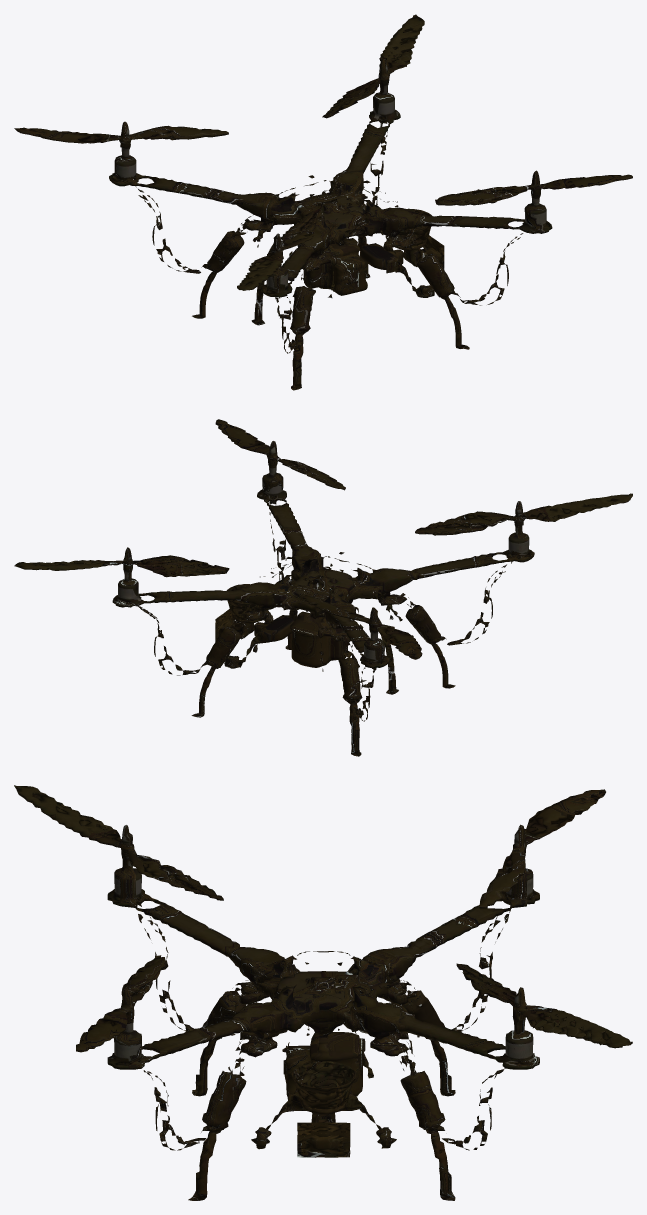
Rendered from drone_optimized.glb.
3 views of the same model, one above another, from view 1: azimuth 30°, elevation 25°; view 2: azimuth 150°, elevation 25°; view 3: azimuth 270°, elevation 25° (orthographic). The views are drawn at different scales.
Visible parts, largest first — view 1: drone; view 2: drone; view 3: drone.
Boxes of the visible parts, x1=… form: drone: x1=14, y1=14, x2=632, y2=390; drone: x1=14, y1=419, x2=632, y2=756; drone: x1=14, y1=785, x2=632, y2=1200.
Bounding box in the file's own units: 0.9915 × 0.4244 × 0.9937.
Materials: 1 (1 with a texture image).
